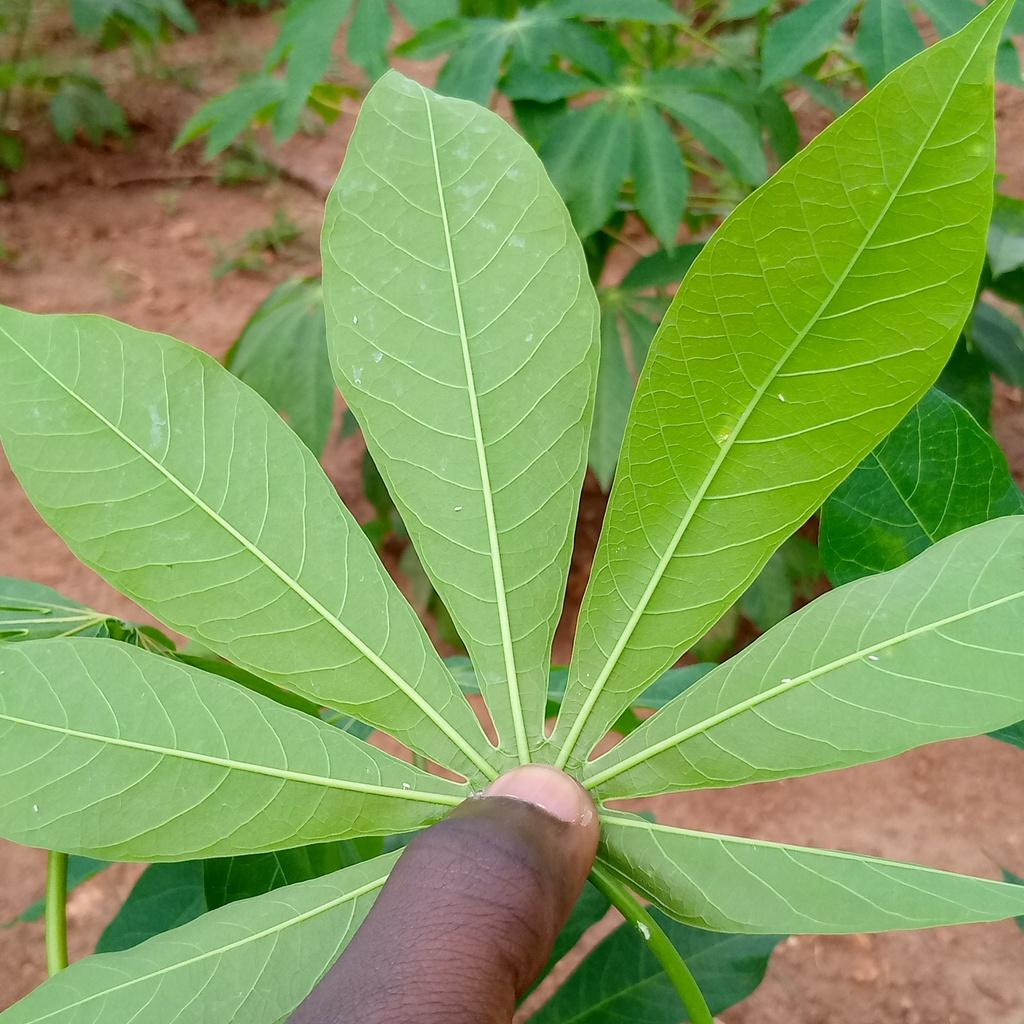adult: (778, 393, 786, 402), (868, 655, 879, 661), (402, 782, 411, 789), (352, 315, 358, 325), (453, 506, 463, 512), (781, 678, 791, 683), (33, 804, 39, 812)
